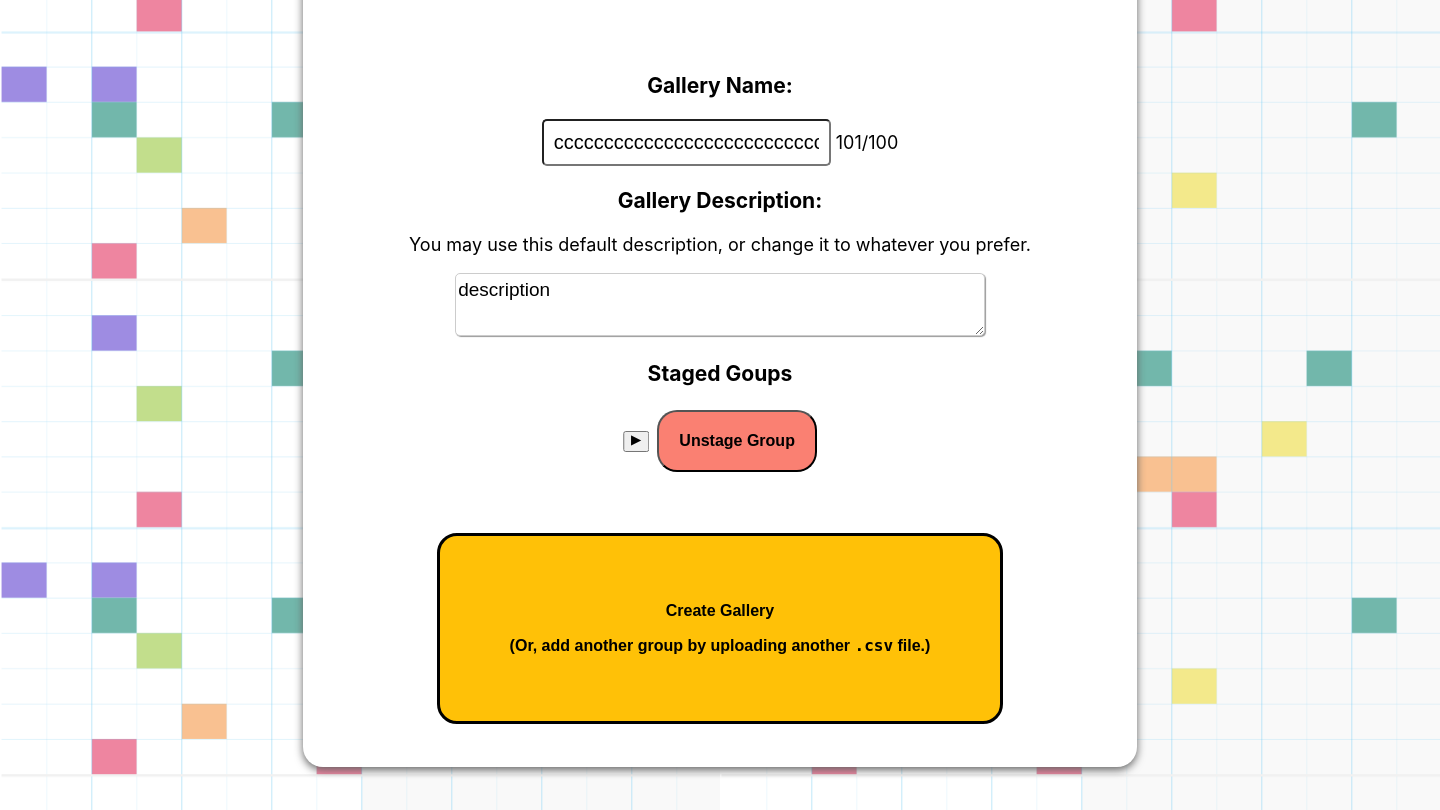
stage › prevents submission of title longer than 100 chars
The width and height of the screenshot is (1440, 810).
(page scrolled)
What coordinates should you click on to do the following:
click the button with test id "submit"
I would click on:
 (720, 610)
Its box is [437, 533, 1003, 724].
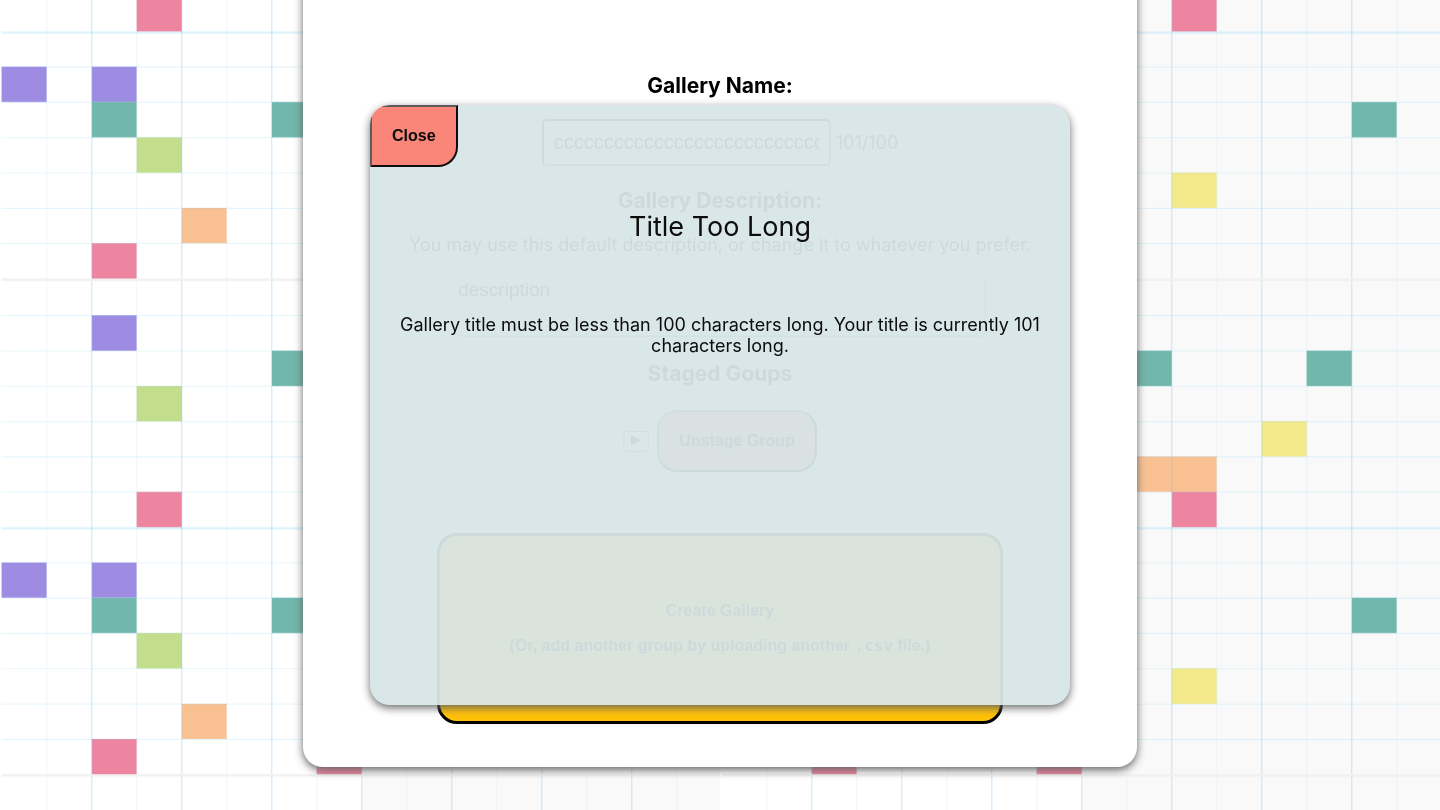
Expected: the heading with test id "errorArray header" reads "Title Too Long", [629, 210, 811, 243]
Expected: the text "Your title is currently 101 characters long" is shown, [400, 314, 1040, 356]
